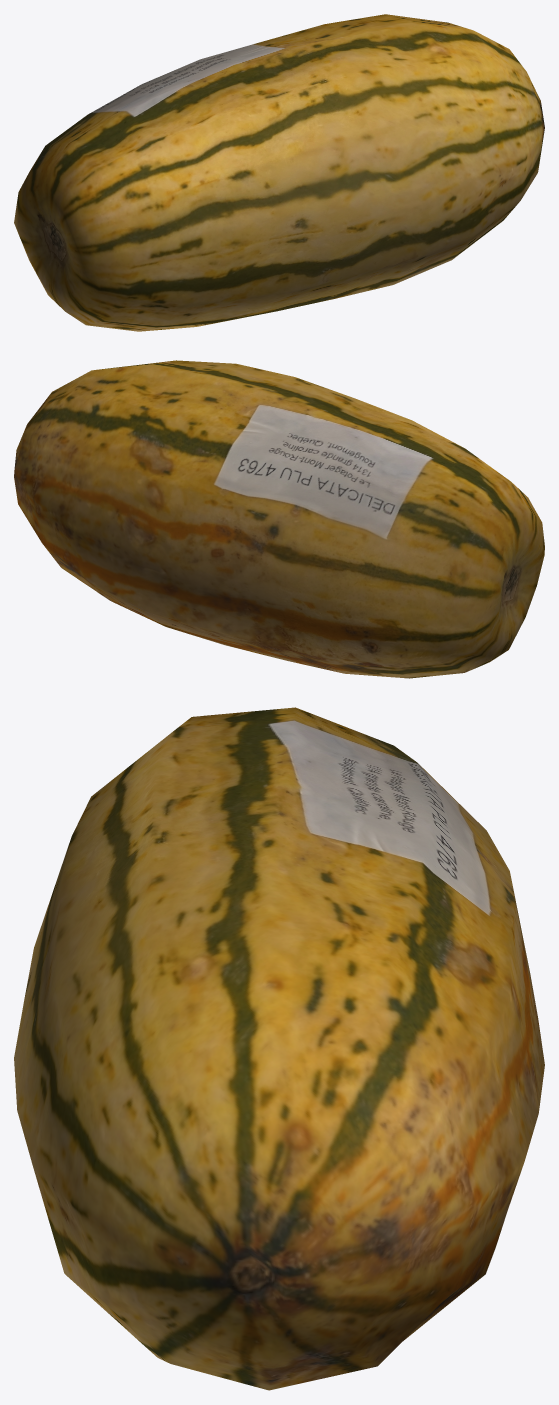
File: A88_Delicata_Squash_With_Sign_low.fbx
The picture shows the model from 3 angles, top to bottom: view 1: azimuth 30°, elevation 25°; view 2: azimuth 150°, elevation 25°; view 3: azimuth 270°, elevation 25°; orthographic projection. The views are drawn at different scales.
Parts seen in each view (by area): view 1: A88_Delicata_Squash_With_Sign_low; view 2: A88_Delicata_Squash_With_Sign_low; view 3: A88_Delicata_Squash_With_Sign_low.
Part boxes in pixels (x1,y1,x2,y2): A88_Delicata_Squash_With_Sign_low: (14, 14, 544, 331); A88_Delicata_Squash_With_Sign_low: (14, 360, 544, 678); A88_Delicata_Squash_With_Sign_low: (14, 707, 544, 1390).
Size of the model in its own units: 21.63 by 10.67 by 10.56.
1 material, 1 textured.
